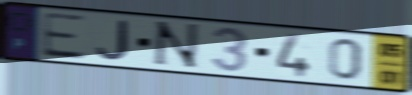0: (326, 36, 367, 83)
3: (210, 25, 250, 75)
4: (274, 31, 313, 79)
E: (39, 10, 88, 61)
J: (94, 19, 131, 62)
N: (149, 19, 202, 71)
